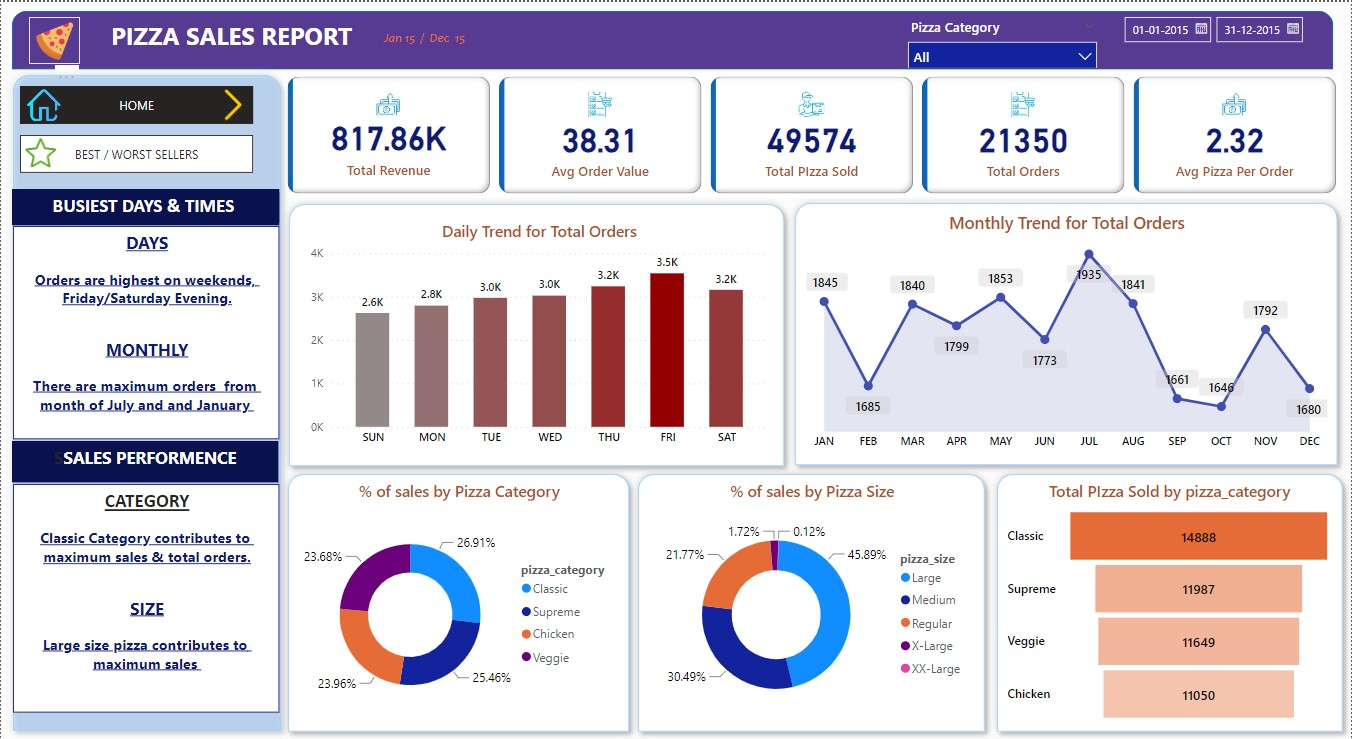

The dashboard page shown, as its layout file describes it:
{"tool":"powerbi","page":{"name":"HOME","canvas":[1500,820],"ordinal":0},"visuals":[{"type":"cardVisual","fields":{"Data":["pizza_sales.Total Revenue","pizza_sales.Avg Order Value","pizza_sales.Total PIzza Sold","pizza_sales.Total Orders","pizza_sales.Avg Pizza Per Order"]},"box":[313.4,77.3,1177.3,140.2],"z":0},{"type":"shape","box":[12.4,10.3,1468,64.9],"z":1000},{"type":"textbox","box":[88,13,431,58],"z":2000},{"type":"textbox","box":[420,26,110,32],"z":3000},{"type":"image","box":[30.9,16.5,56.7,52.6],"z":4000},{"type":"shape","box":[311.3,215.5,568,309.3],"z":5000},{"type":"columnChart","title":"Daily Trend for Total Orders","fields":{"Category":["pizza_sales.Order Day"],"Y":["pizza_sales.Total Orders"]},"box":[339.2,242.3,518.6,259.8],"z":6000},{"type":"shape","box":[873.2,214.4,620.6,309.3],"z":7000},{"type":"areaChart","title":"Monthly Trend for Total Orders","fields":{"Y":["pizza_sales.Total Orders"],"Category":["pizza_sales.Order Month"]},"box":[889.7,232,588.7,274.2],"z":8000},{"type":"shape","box":[310.3,515.5,396.9,304.1],"z":9000},{"type":"shape","box":[699,515.5,403.1,304.1],"z":10000},{"type":"shape","box":[1097.9,515.5,402.1,304.1],"z":11000},{"type":"donutChart","title":"% of sales by Pizza Category","fields":{"Category":["pizza_sales.pizza_category"],"Y":["pizza_sales.Total Revenue"]},"box":[326.8,530.9,364.9,276.3],"z":12000},{"type":"donutChart","title":"% of sales by Pizza Size","fields":{"Y":["pizza_sales.Total Revenue"],"Category":["pizza_sales.pizza_size"]},"box":[718.6,530.9,364.9,276.3],"z":13000},{"type":"funnel","fields":{"Y":["pizza_sales.Total PIzza Sold"],"Category":["pizza_sales.pizza_category"]},"box":[1113.4,530.9,370.1,275.3],"z":14000},{"type":"shape","box":[4.1,72.2,315.5,746.4],"z":15000},{"type":"textbox","box":[12.4,211.3,296.9,37.1],"z":16000},{"type":"textbox","box":[13.4,248.5,295.9,237.1],"z":17000},{"type":"textbox","box":[12.4,487.6,295.9,46.4],"z":18000},{"type":"textbox","box":[12.4,208.2,296.9,37.1],"z":19000},{"type":"textbox","box":[13.4,535.1,295.9,253.6],"z":20000},{"type":"slicer","fields":{"Values":["pizza_sales.pizza_category"]},"box":[998,12,230,61],"z":21000},{"type":"slicer","fields":{"Values":["pizza_sales.order_date"]},"box":[1235.1,6.2,226.8,68],"z":22000},{"type":"pageNavigator","box":[21.6,92.8,259.8,42.3],"z":23000},{"type":"pageNavigator","box":[21.6,147.4,259.8,42.3],"z":24000},{"type":"image","box":[236.1,86.6,45.4,54.6],"z":25000},{"type":"image","box":[21.6,145.4,46.4,44.3],"z":26000},{"type":"image","box":[21.6,90.7,51.5,47.4],"z":27000}]}

Visuals, with their boxes in screenshot pixels (x1, y1, x2, y2), scaled from the page's 1500x820 canvas onto the 1352x739 screenshot:
cardVisual - pizza_sales.Total Revenue x pizza_sales.Avg Order Value: {"left": 282, "top": 70, "right": 1344, "bottom": 196}
shape: {"left": 11, "top": 9, "right": 1334, "bottom": 68}
textbox: {"left": 79, "top": 12, "right": 468, "bottom": 64}
textbox: {"left": 379, "top": 23, "right": 478, "bottom": 52}
image: {"left": 28, "top": 15, "right": 79, "bottom": 62}
shape: {"left": 281, "top": 194, "right": 793, "bottom": 473}
"Daily Trend for Total Orders" columnChart: {"left": 306, "top": 218, "right": 773, "bottom": 453}
shape: {"left": 787, "top": 193, "right": 1346, "bottom": 472}
"Monthly Trend for Total Orders" areaChart: {"left": 802, "top": 209, "right": 1333, "bottom": 456}
shape: {"left": 280, "top": 465, "right": 637, "bottom": 738}
shape: {"left": 630, "top": 465, "right": 993, "bottom": 738}
shape: {"left": 990, "top": 465, "right": 1351, "bottom": 738}
"% of sales by Pizza Category" donutChart: {"left": 295, "top": 478, "right": 623, "bottom": 727}
"% of sales by Pizza Size" donutChart: {"left": 648, "top": 478, "right": 977, "bottom": 727}
funnel - pizza_sales.Total PIzza Sold x pizza_sales.pizza_category: {"left": 1004, "top": 478, "right": 1337, "bottom": 727}
shape: {"left": 4, "top": 65, "right": 288, "bottom": 738}
textbox: {"left": 11, "top": 190, "right": 279, "bottom": 224}
textbox: {"left": 12, "top": 224, "right": 279, "bottom": 438}
textbox: {"left": 11, "top": 439, "right": 278, "bottom": 481}
textbox: {"left": 11, "top": 188, "right": 279, "bottom": 221}
textbox: {"left": 12, "top": 482, "right": 279, "bottom": 711}
slicer - pizza_sales.pizza_category: {"left": 900, "top": 11, "right": 1107, "bottom": 66}
slicer - pizza_sales.order_date: {"left": 1113, "top": 6, "right": 1318, "bottom": 67}
pageNavigator: {"left": 19, "top": 84, "right": 254, "bottom": 122}
pageNavigator: {"left": 19, "top": 133, "right": 254, "bottom": 171}
image: {"left": 213, "top": 78, "right": 254, "bottom": 127}
image: {"left": 19, "top": 131, "right": 61, "bottom": 171}
image: {"left": 19, "top": 82, "right": 66, "bottom": 124}
